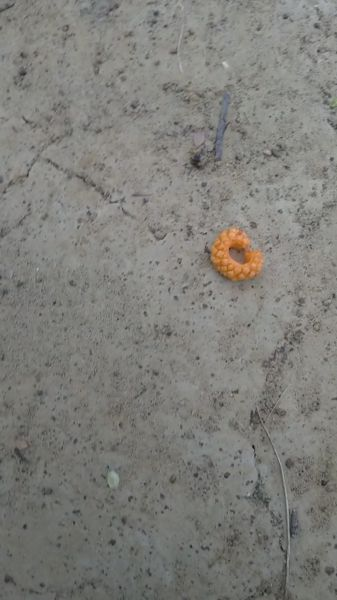eggs: (208, 219, 266, 285)
